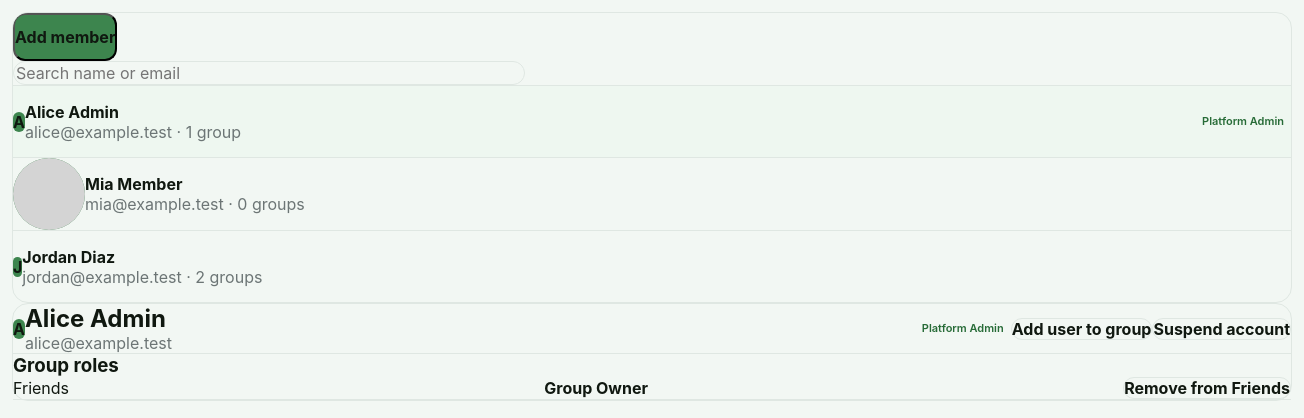
UsersAdminView › filters by name case-insensitively
Step 1. Type "JOR" into the search field named "Search users" → (269, 73), box [14, 62, 524, 84]
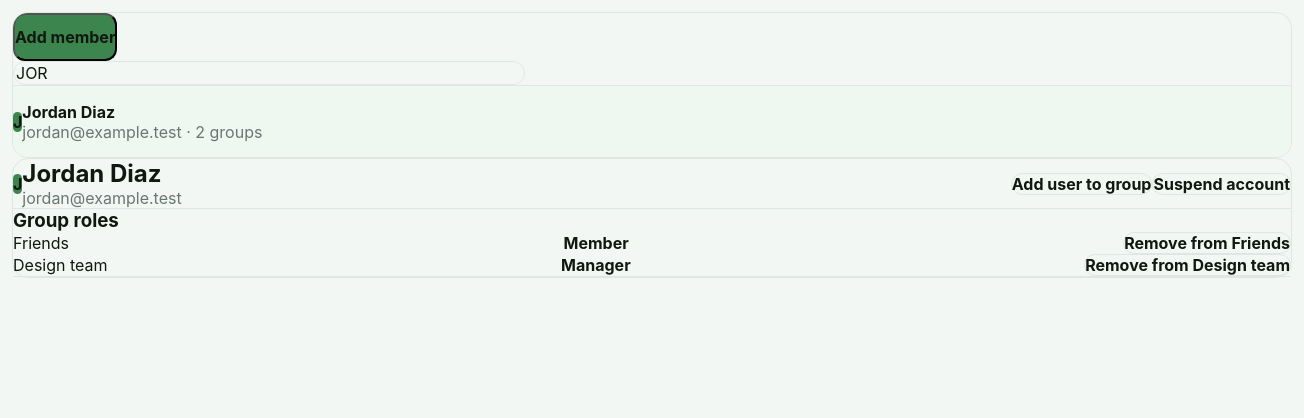
Check: the text "Jordan Diaz" is shown, box [22, 102, 115, 122]
Check: the button "Alice Admin" is gone
Check: the button "Mia Member" is gone
